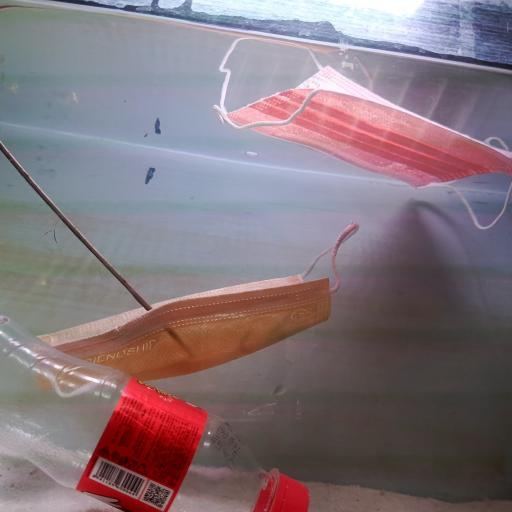bottle_cap: (266, 465, 314, 512)
mask: (208, 80, 512, 219), (19, 270, 347, 392)
plastic_bottle: (4, 319, 320, 512)
